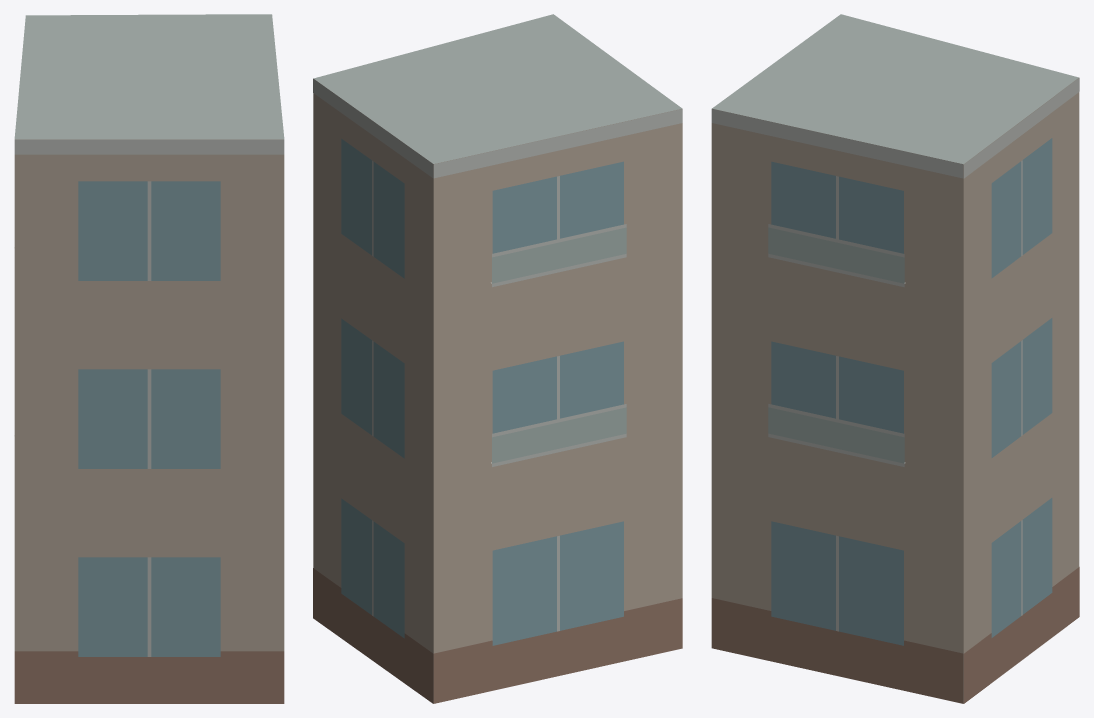
Rendered from survey-upis-32470415.glb.
3 views of the same model, side by side, from view 1: azimuth 30°, elevation 25°; view 2: azimuth 150°, elevation 25°; view 3: azimuth 270°, elevation 25° (orthographic). The views are drawn at different scales.
Parts seen in each view (by area): view 1: survey-upis-32470415.tmp; view 2: survey-upis-32470415.tmp; view 3: survey-upis-32470415.tmp.
Part boxes in pixels (bbox=[...]): survey-upis-32470415.tmp: bbox=[14, 14, 284, 703]; survey-upis-32470415.tmp: bbox=[313, 14, 682, 703]; survey-upis-32470415.tmp: bbox=[711, 14, 1079, 703].
Bounding box in the file's own units: 5.47 × 9.15 × 5.66.
